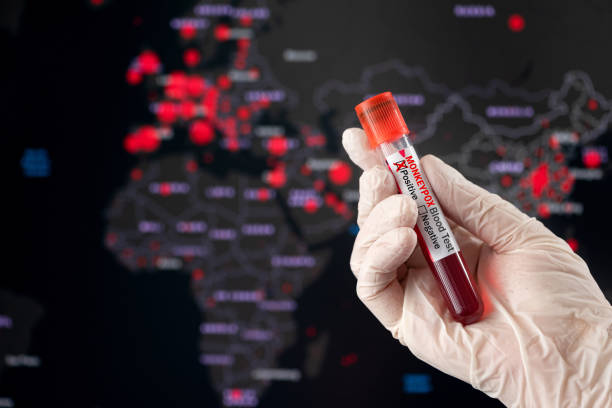blood: (415, 228, 484, 323)
